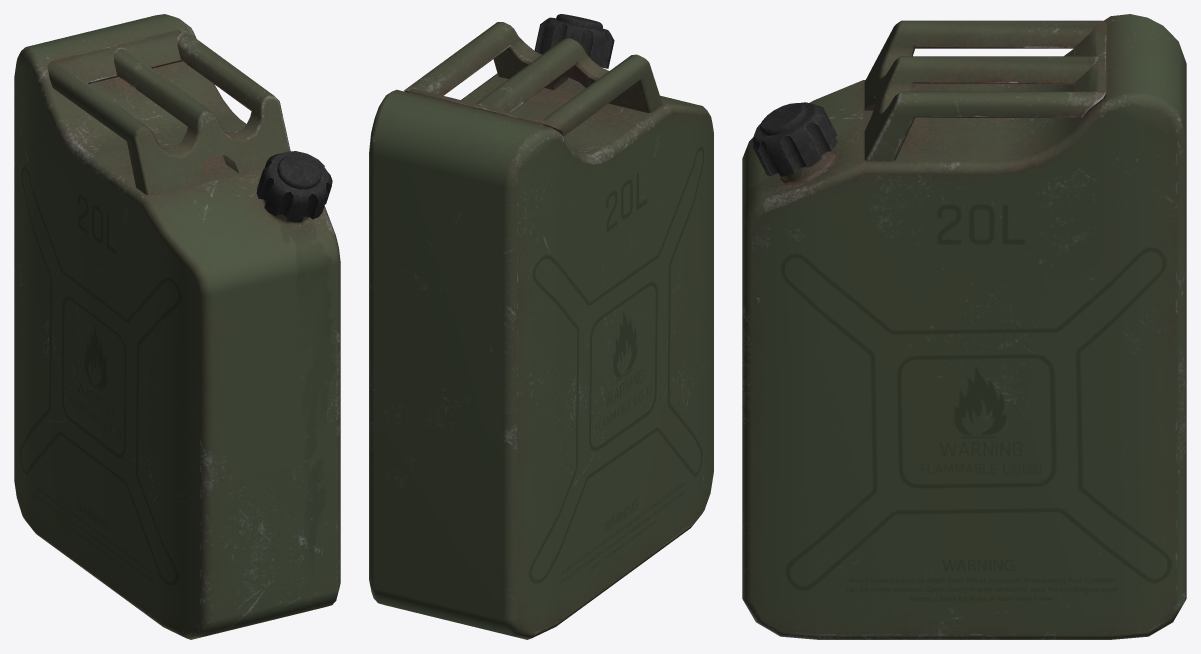
3 renders of one model, left to right at view 1: azimuth 30°, elevation 25°; view 2: azimuth 150°, elevation 25°; view 3: azimuth 270°, elevation 25°, orthographic. The views are drawn at different scales.
Visible parts, largest first — view 1: fuel_can; view 2: fuel_can; view 3: fuel_can.
Boxes of the visible parts, box(x1,y1,x2,y2) form: fuel_can: box(14, 14, 340, 639); fuel_can: box(369, 14, 713, 639); fuel_can: box(742, 14, 1186, 639).
Bounding box in the file's own units: 0.1772 × 0.5027 × 0.3706.
1 material, 1 textured.
